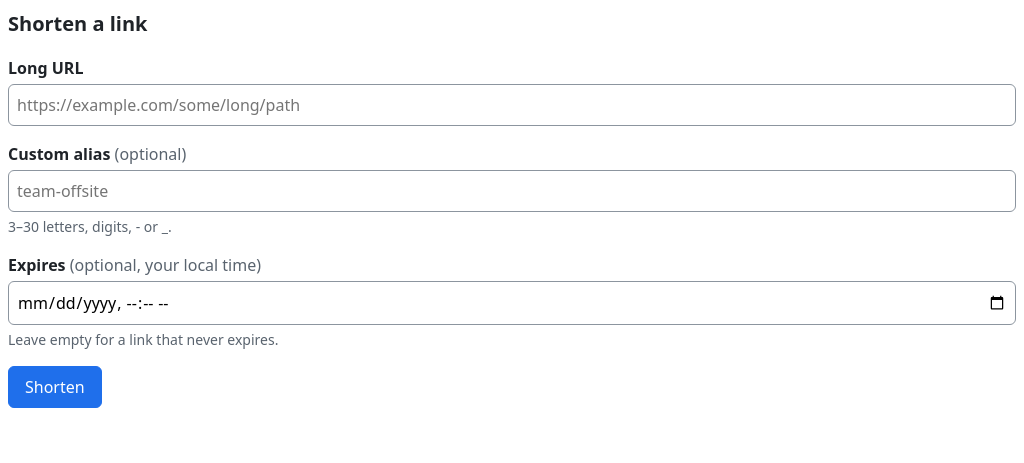
Scenario: CreateLinkForm › explains a taken alias
The width and height of the screenshot is (1024, 463).
Type "https://example.com/" into the field labelled "Long URL" at (512, 105), box [8,84,1016,126]
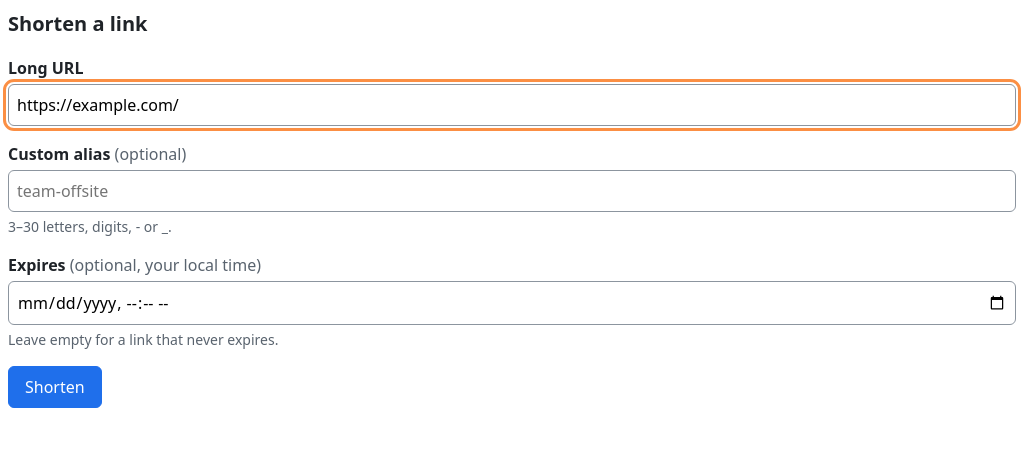
Click the button "Shorten" at (55, 387), box [8,366,102,408]
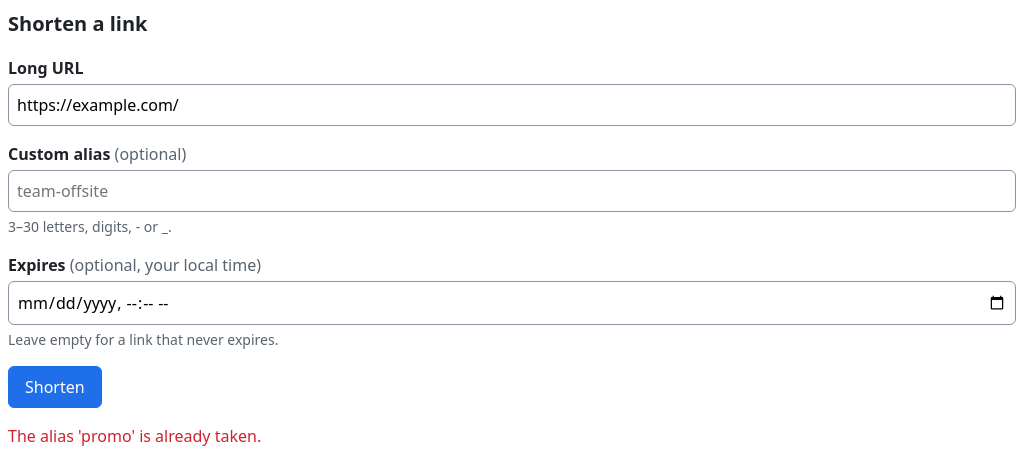
expect the message reads "The alias 'promo' is already taken.": met, box [8,425,261,447]
